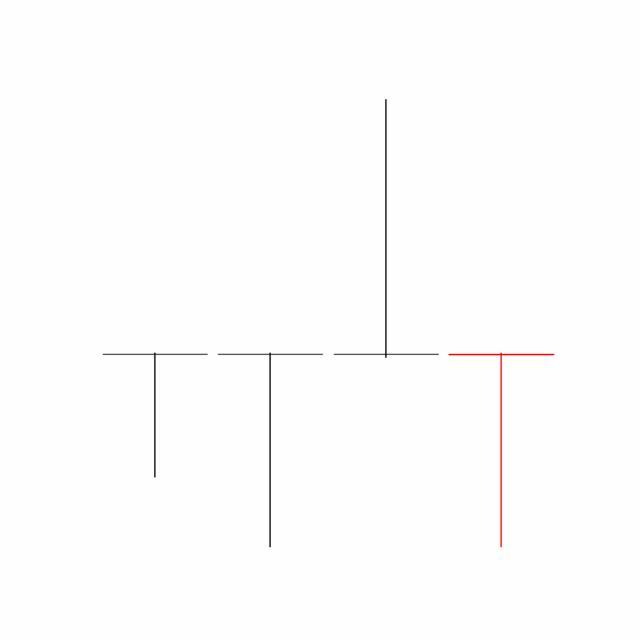Dragonfly Doji: (444, 351, 560, 551)
